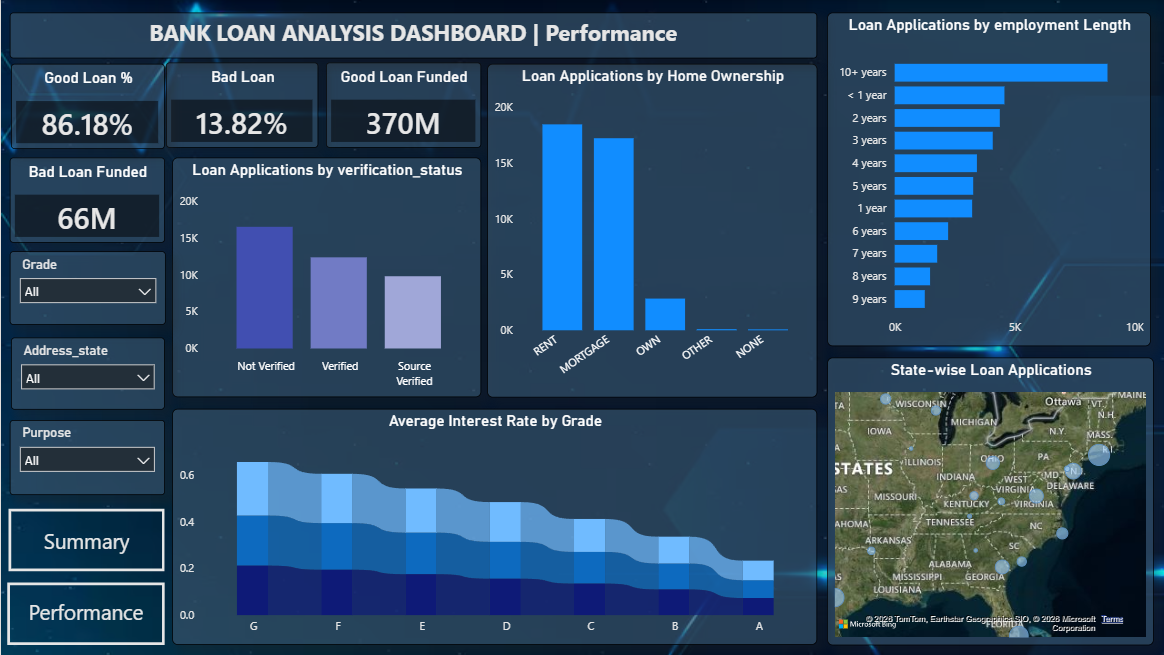

This screenshot's page, from the dashboard's own definition file:
{"tool":"powerbi","page":{"name":"page 2","canvas":[1280,720],"ordinal":1},"visuals":[{"type":"cardVisual","title":"Good Loan Funded","fields":{"Data":["financial_loan.Good Loan Funded Amount"]},"box":[356.8,68.6,170.2,93.3],"z":0},{"type":"cardVisual","title":"Bad Loan Funded ","fields":{"Data":["financial_loan.Bad Loan Funded Amount"]},"box":[9.6,172.9,170.2,93.3],"z":1000},{"type":"cardVisual","title":"Bad Loan","fields":{"Data":["financial_loan.Bad Loan %"]},"box":[181.1,68.6,167.4,93.3],"z":2000},{"type":"clusteredBarChart","title":"Loan Applications by employment Length","fields":{"Category":["financial_loan.emp_length"],"Y":["financial_loan.Total Loan Applications"]},"box":[907,13.7,355.4,366.4],"z":3000},{"type":"clusteredColumnChart","title":"Loan Applications by verification_status","fields":{"Category":["financial_loan.verification_status"],"Y":["financial_loan.Total Loan Applications"]},"box":[188,172.9,338.9,263.5],"z":4000},{"type":"clusteredColumnChart","title":"Loan Applications by Home Ownership","fields":{"Category":["financial_loan.home_ownership"],"Y":["financial_loan.Total Loan Applications"]},"box":[533.8,70,362.3,366.4],"z":5000},{"type":"slicer","fields":{"Values":["financial_loan.address_state"]},"box":[11,370.5,168.8,79.6],"z":6000},{"type":"slicer","fields":{"Values":["financial_loan.grade"]},"box":[9.6,275.8,171.5,81],"z":7000},{"type":"slicer","fields":{"Values":["financial_loan.purpose"]},"box":[9.6,461.1,170.2,82.3],"z":8000},{"type":"textbox","box":[9.6,13.7,886.5,50.8],"z":9000},{"type":"actionButton","title":"Summary","box":[8.2,558.5,171.5,68.6],"z":10000},{"type":"actionButton","title":"Performance","box":[6.9,639.5,172.9,68.6],"z":11000},{"type":"cardVisual","title":"Good Loan %","fields":{"Data":["financial_loan.Good Loan %"]},"box":[11,70,168.8,93.3],"z":12000},{"type":"map","title":"State-wise Loan Applications","fields":{"Size":["financial_loan.Total Loan Applications"],"Category":["financial_loan.address_state"]},"box":[907,392.5,358.1,315.6],"z":13000},{"type":"ribbonChart","title":"Average Interest Rate by Grade","fields":{"Category":["financial_loan.grade"],"Series":["financial_loan.loan_status"],"Y":["Avg(financial_loan.int_rate)"]},"box":[188,448.7,708.1,259.3],"z":14000}]}

Visuals, with their boxes in screenshot pixels (x1, y1, x2, y2), scaled from the page's 1280x720 canvas onto the 1164x655 screenshot:
"Good Loan Funded" cardVisual: box=[324, 62, 479, 147]
"Bad Loan Funded " cardVisual: box=[9, 157, 164, 242]
"Bad Loan" cardVisual: box=[165, 62, 317, 147]
"Loan Applications by employment Length" clusteredBarChart: box=[825, 12, 1148, 346]
"Loan Applications by verification_status" clusteredColumnChart: box=[171, 157, 479, 397]
"Loan Applications by Home Ownership" clusteredColumnChart: box=[485, 64, 815, 397]
slicer - financial_loan.address_state: box=[10, 337, 164, 409]
slicer - financial_loan.grade: box=[9, 251, 165, 325]
slicer - financial_loan.purpose: box=[9, 419, 164, 494]
textbox: box=[9, 12, 815, 59]
"Summary" actionButton: box=[7, 508, 163, 570]
"Performance" actionButton: box=[6, 582, 164, 644]
"Good Loan %" cardVisual: box=[10, 64, 164, 149]
"State-wise Loan Applications" map: box=[825, 357, 1150, 644]
"Average Interest Rate by Grade" ribbonChart: box=[171, 408, 815, 644]
